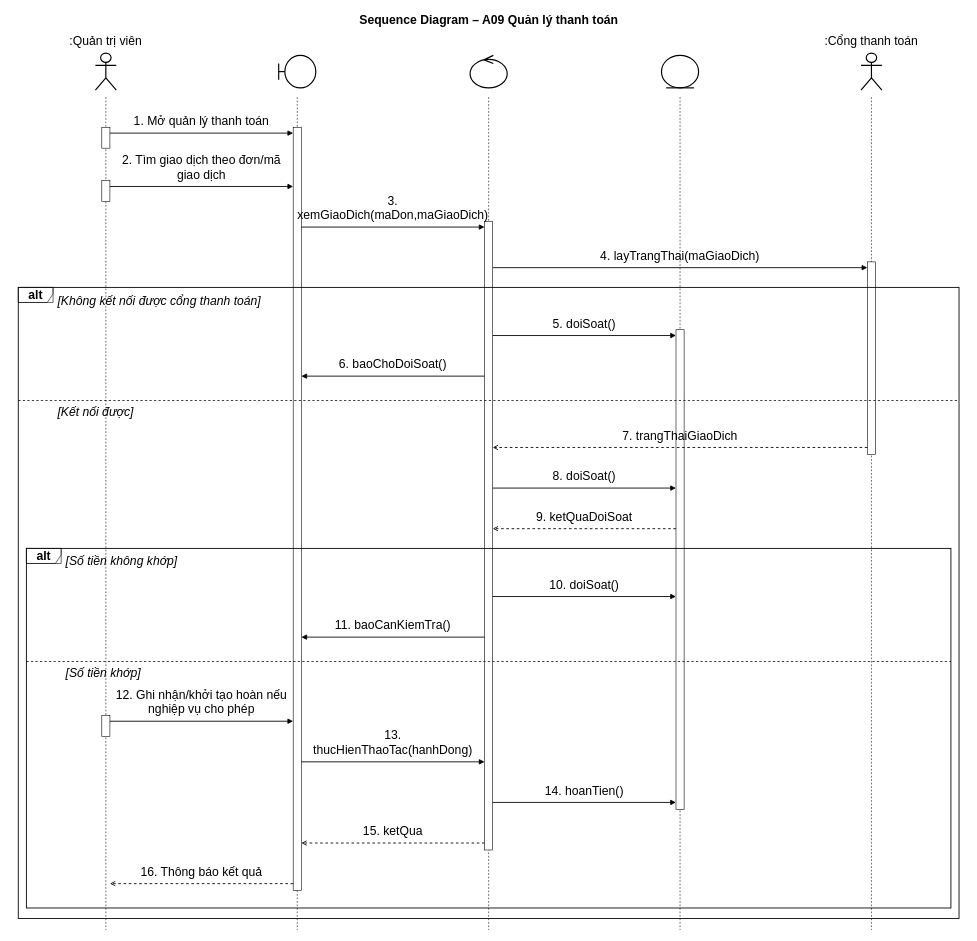
The diagram is 977 pixels wide and 941 high, and some of its shapes have lost their labels. The shapes that lost their labels are listed below. From the top down, each one's centre as x and y in pixels, then its label:
At point 297,71: ":QuanLyThanhToanPage".
At point 488,71: ":QuanLyThanhToanController".
At point 680,71: ":ThanhToan".
